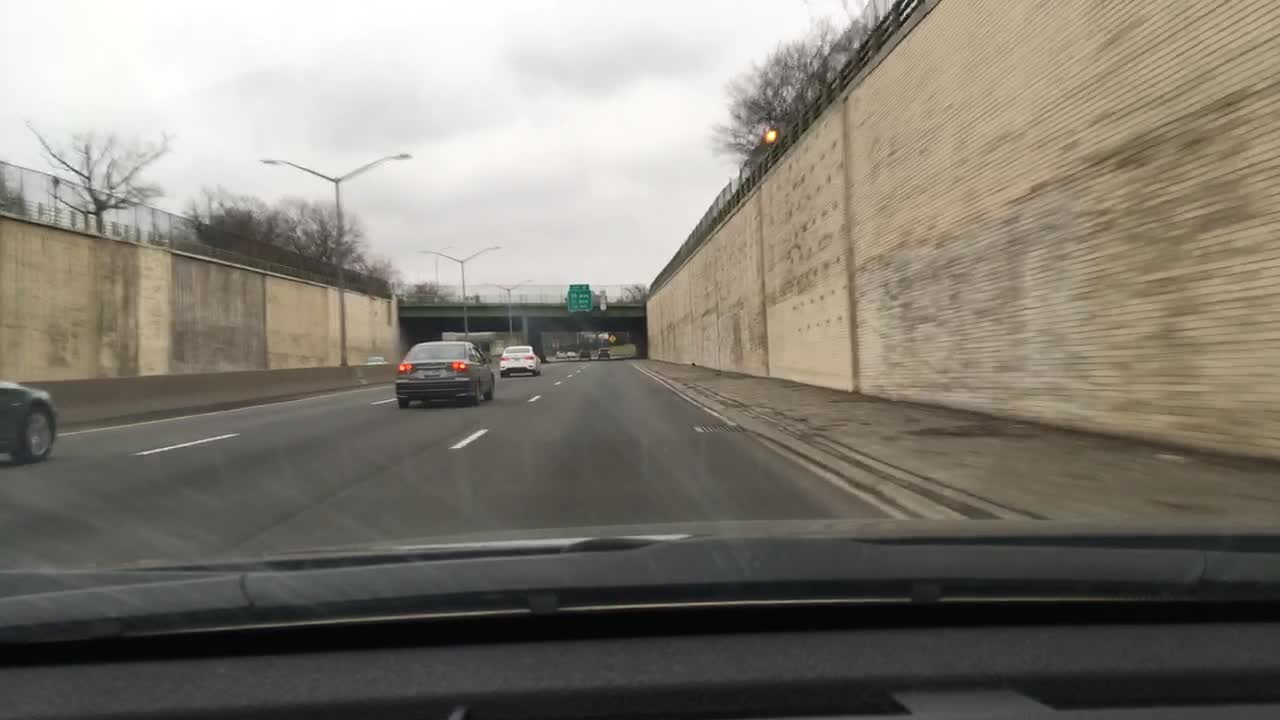car: (393, 338, 494, 406), (0, 378, 57, 462), (499, 345, 541, 377), (364, 354, 388, 364), (578, 348, 592, 362), (597, 347, 610, 358)
traffic sign: (567, 282, 590, 310), (606, 331, 617, 344)
